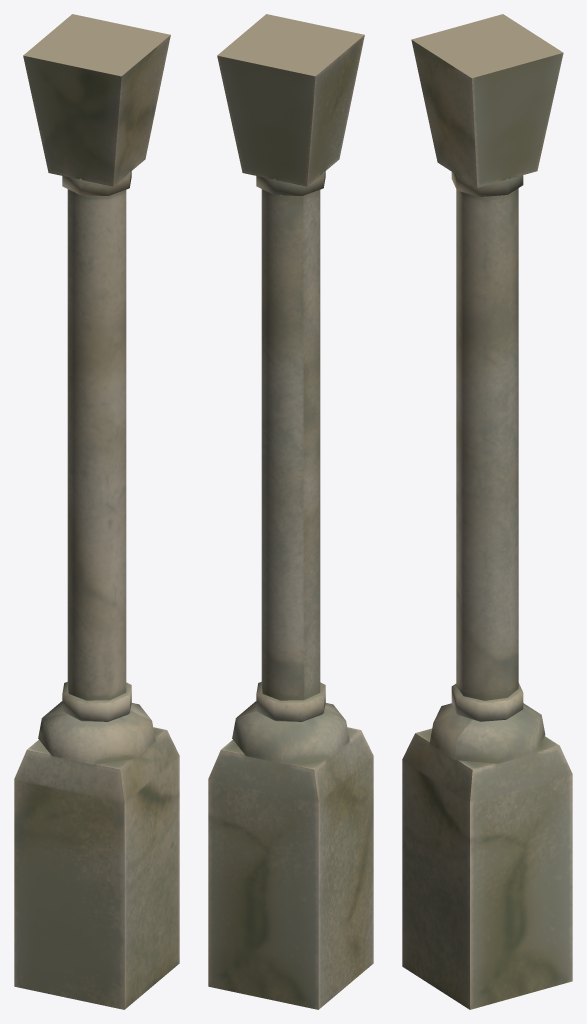
Rendered from pavilion03.fbx.
3 renders of one model, left to right at view 1: azimuth 30°, elevation 25°; view 2: azimuth 210°, elevation 25°; view 3: azimuth 270°, elevation 25°, orthographic.
Parts seen in each view (by area): view 1: Cylinder.001; view 2: Cylinder.001; view 3: Cylinder.001.
Part boxes in pixels (x1,y1,x2,y2): Cylinder.001: (14, 14, 179, 1009); Cylinder.001: (208, 14, 373, 1009); Cylinder.001: (402, 14, 572, 1009).
Bounding box in the file's own units: 74.17 × 445 × 74.17.
